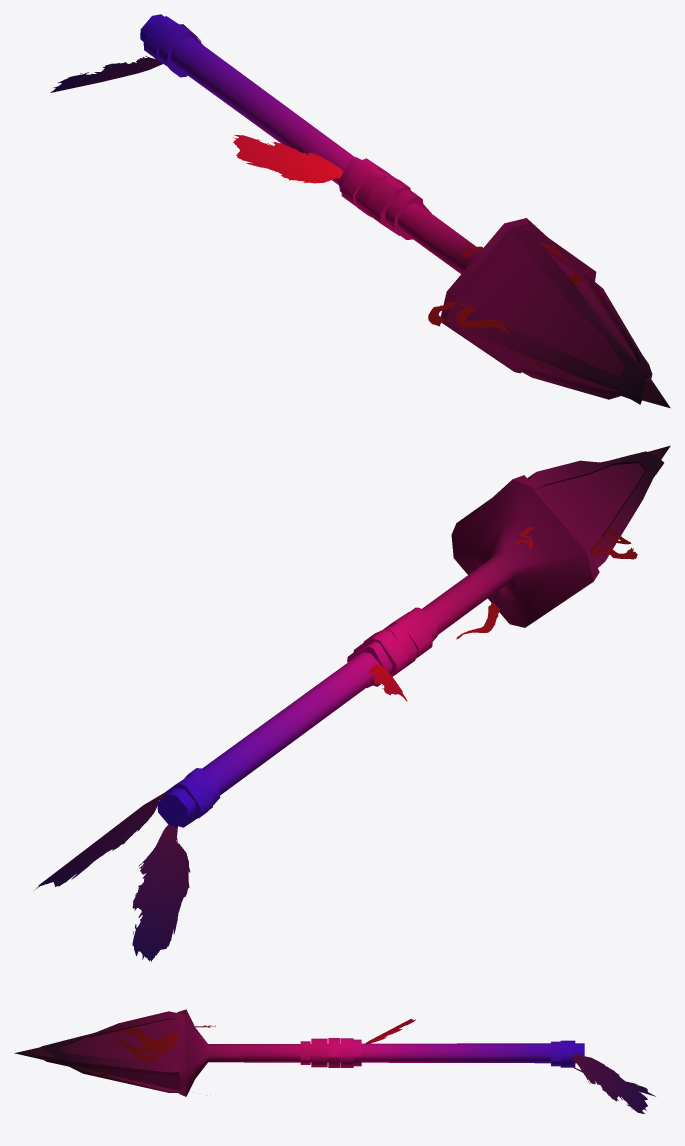
Rendered from Arrow.fbx.
3 renders of one model, top to bottom at view 1: azimuth 30°, elevation 25°; view 2: azimuth 150°, elevation 25°; view 3: azimuth 270°, elevation 25°, orthographic. The views are drawn at different scales.
Parts seen in each view (by area): view 1: Arrow; view 2: Arrow; view 3: Arrow.
Boxes of the visible parts, x1,y1,x2,y2 form: Arrow: (50,14,670,408); Arrow: (35,445,670,961); Arrow: (14,1009,655,1113).
Size of the model in its own units: 1.98 by 1.5 by 8.7.
